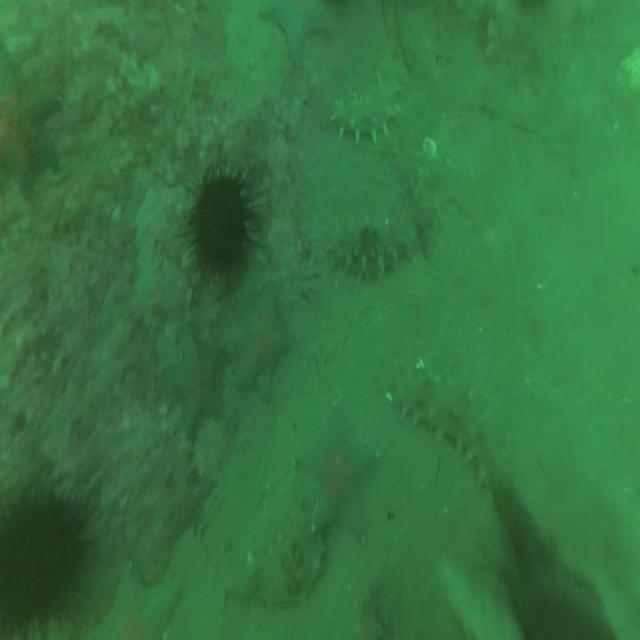echinus: (0, 499, 81, 640), (193, 175, 247, 274)
holothurian: (394, 364, 502, 492), (322, 208, 418, 280), (332, 82, 401, 141)
scallop: (422, 136, 438, 158)
starfish: (296, 406, 375, 541), (1, 44, 60, 201), (87, 564, 180, 640), (230, 294, 294, 403), (166, 322, 224, 437), (548, 80, 606, 182), (260, 2, 328, 68)
